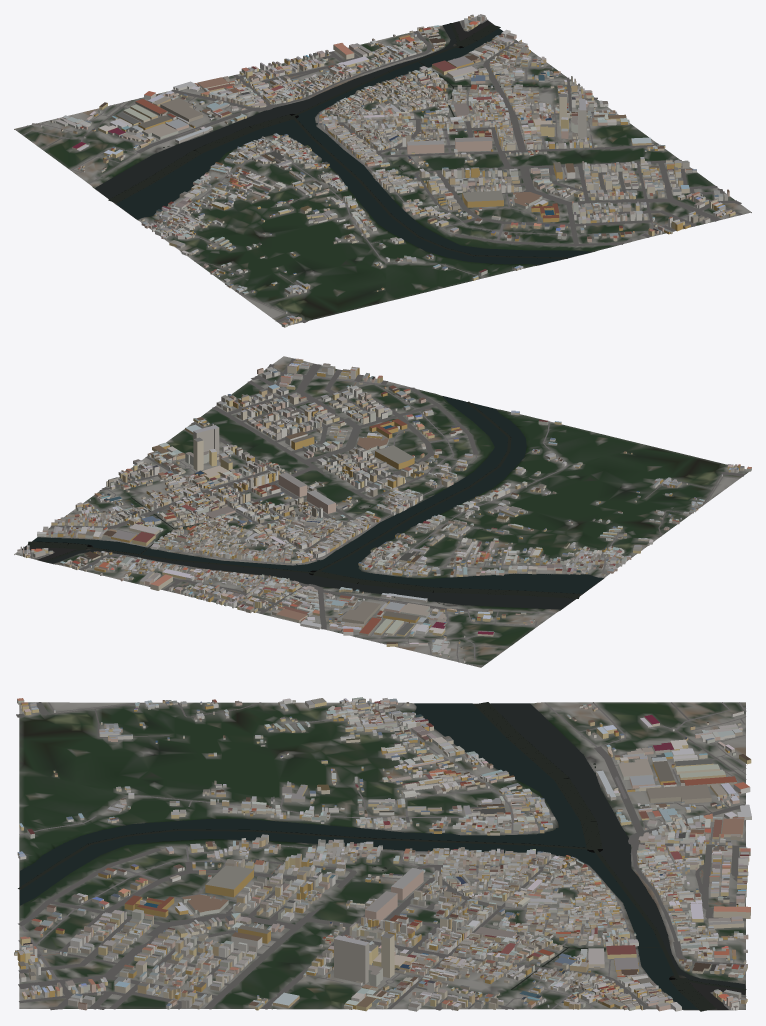
The picture shows the model from 3 angles, top to bottom: view 1: azimuth 30°, elevation 25°; view 2: azimuth 150°, elevation 25°; view 3: azimuth 270°, elevation 25°; orthographic projection. The views are drawn at different scales.
Parts seen in each view (by area): view 1: ground, buildings, water, roads; view 2: ground, buildings, water, roads; view 3: ground, buildings, water, roads.
Boxes of the visible parts, x1,y1,x2,y2 form: ground: (14, 20, 751, 325); buildings: (32, 14, 735, 327); water: (95, 20, 592, 264); roads: (16, 19, 742, 322); ground: (14, 356, 749, 667); buildings: (17, 358, 751, 662); water: (22, 396, 603, 609); roads: (22, 358, 744, 665); ground: (19, 702, 745, 1010); buildings: (14, 697, 751, 1011); water: (18, 702, 746, 1011); roads: (16, 702, 746, 1010).
Bounding box in the file's own units: 1419 × 89.87 × 1422.
